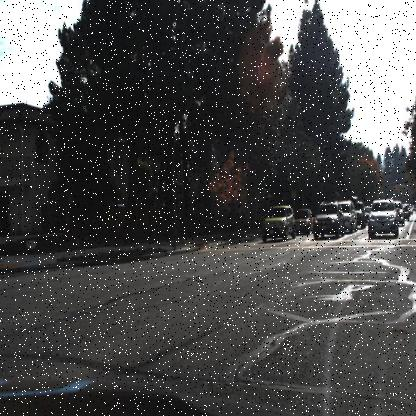car: (260, 204, 297, 243), (368, 200, 398, 242), (313, 200, 344, 237), (295, 204, 312, 236)
